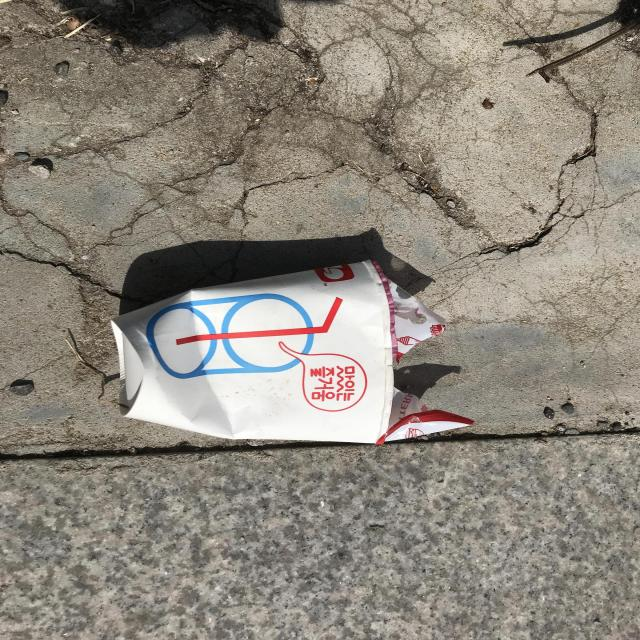paperpack: (110, 261, 473, 444)
